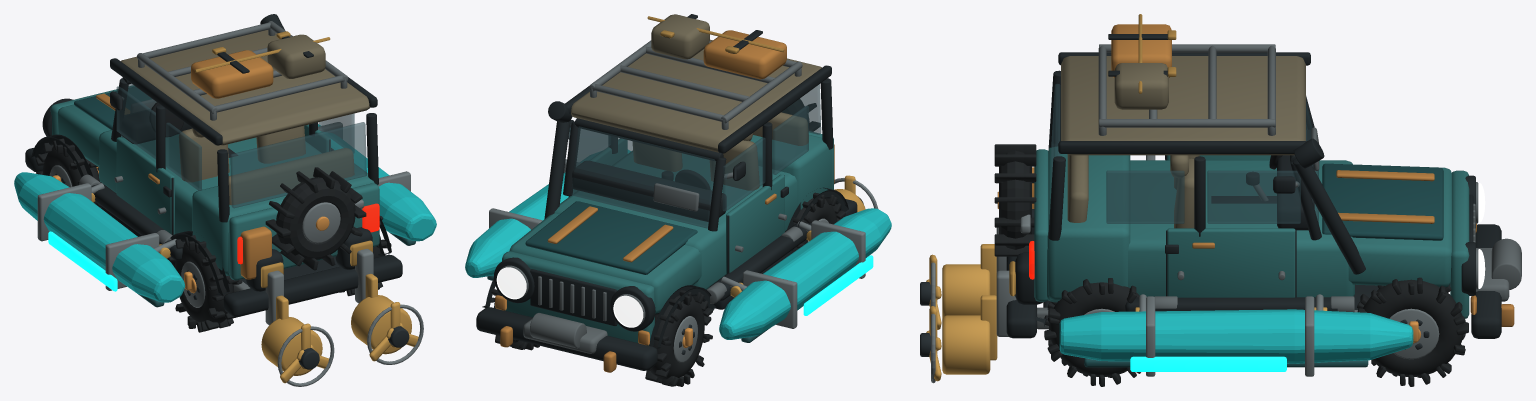
Rendered from realistic_amphibious_jeep_v1.glb.
The picture shows the model from 3 angles, left to right: view 1: azimuth 30°, elevation 25°; view 2: azimuth 150°, elevation 25°; view 3: azimuth 270°, elevation 25°; orthographic projection. The views are drawn at different scales.
Visible parts, largest first — view 1: BodyStatic, VehicleGlass, PontoonVisual_L, SpareVisual, WheelVisual_2, PontoonVisual_R, PropAssembly_L, PropAssembly_R, PropRotor_R, PropRotor_L, WheelVisual_0, ModeGlowL (+1 smaller); view 2: BodyStatic, VehicleGlass, PontoonVisual_L, WheelVisual_0, PontoonVisual_R, ModeGlowL, WheelVisual_2, Headlight_L, Headlight_R, PropRotor_L; view 3: BodyStatic, PontoonVisual_R, VehicleGlass, WheelVisual_1, PropAssembly_R, SpareVisual, WheelVisual_3, PropAssembly_L, ModeGlowR, PropRotor_R, PropRotor_L.
Part boxes in pixels (bbox=[...]): BodyStatic: bbox=[25, 14, 402, 317]; VehicleGlass: bbox=[116, 84, 366, 208]; PontoonVisual_L: bbox=[14, 172, 185, 307]; SpareVisual: bbox=[265, 167, 366, 270]; WheelVisual_2: bbox=[168, 235, 242, 332]; PontoonVisual_R: bbox=[318, 122, 436, 245]; PropAssembly_L: bbox=[261, 270, 322, 375]; PropAssembly_R: bbox=[351, 249, 411, 354]; PropRotor_R: bbox=[367, 302, 423, 364]; PropRotor_L: bbox=[277, 323, 334, 386]; WheelVisual_0: bbox=[35, 138, 101, 208]; ModeGlowL: bbox=[48, 231, 117, 291]; BodyStatic: bbox=[476, 14, 857, 372]; VehicleGlass: bbox=[568, 84, 821, 228]; PontoonVisual_L: bbox=[719, 208, 891, 342]; WheelVisual_0: bbox=[645, 290, 712, 386]; PontoonVisual_R: bbox=[465, 150, 630, 280]; ModeGlowL: bbox=[803, 255, 873, 315]; WheelVisual_2: bbox=[793, 192, 845, 248]; Headlight_L: bbox=[613, 295, 643, 327]; Headlight_R: bbox=[496, 267, 526, 299]; PropRotor_L: bbox=[834, 175, 878, 208]; BodyStatic: bbox=[1006, 14, 1521, 338]; PontoonVisual_R: bbox=[1059, 294, 1413, 376]; VehicleGlass: bbox=[1051, 84, 1318, 223]; WheelVisual_1: bbox=[1357, 277, 1468, 386]; PropAssembly_R: bbox=[942, 270, 1016, 374]; SpareVisual: bbox=[994, 144, 1036, 256]; WheelVisual_3: bbox=[1044, 278, 1140, 386]; PropAssembly_L: bbox=[942, 227, 1006, 318]; ModeGlowR: bbox=[1130, 356, 1286, 371]; PropRotor_R: bbox=[920, 306, 941, 383]; PropRotor_L: bbox=[920, 254, 941, 329].
Size of the model in its own units: 3.28 by 2.66 by 4.77.
